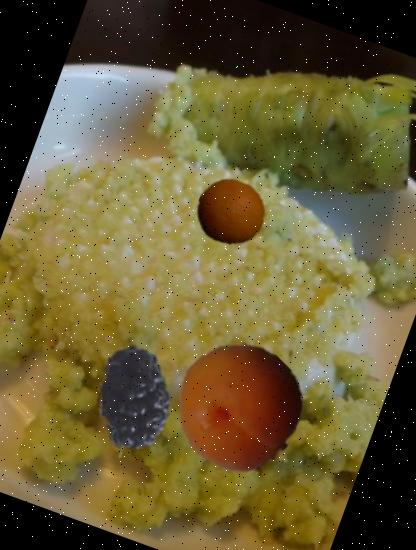Apricot: (158, 326, 320, 487)
Mulberry: (70, 326, 220, 476)
Orange: (186, 168, 274, 255)
